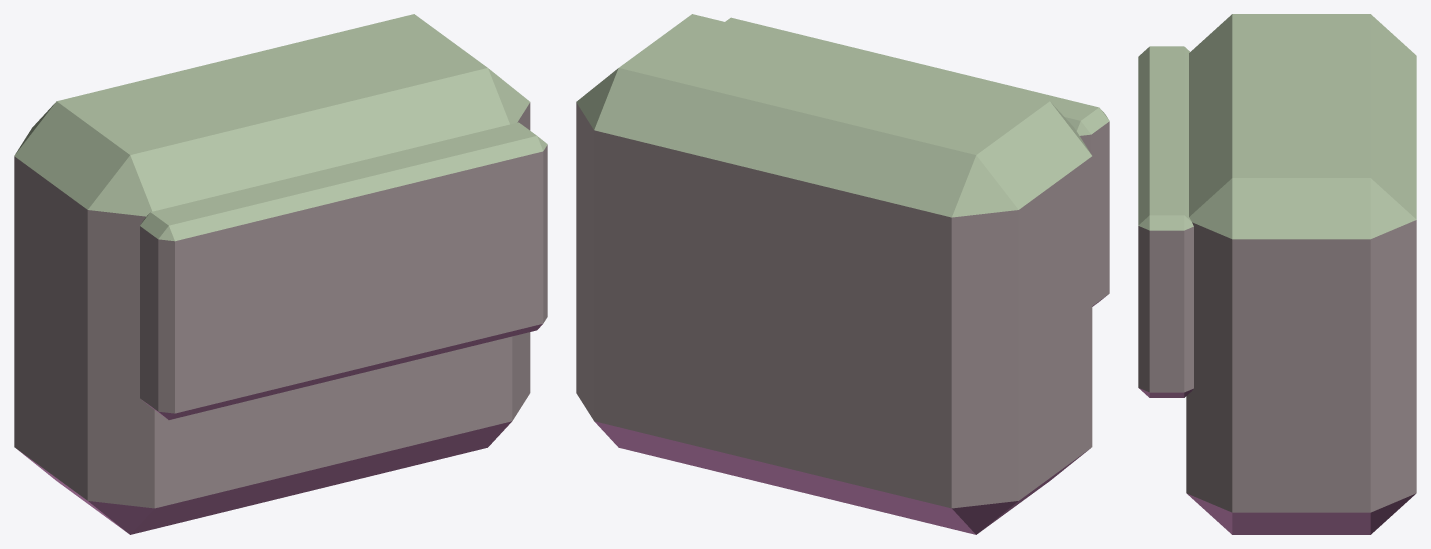
Rendered from npc_module_satchel_v01.glb.
3 renders of one model, left to right at view 1: azimuth 30°, elevation 25°; view 2: azimuth 150°, elevation 25°; view 3: azimuth 270°, elevation 25°, orthographic. The views are drawn at different scales.
Visible parts, largest first — view 1: GEO_npc_module_satchel_v01; view 2: GEO_npc_module_satchel_v01; view 3: GEO_npc_module_satchel_v01.
Part boxes in pixels (x1,y1,x2,y2): GEO_npc_module_satchel_v01: (14,14,547,534); GEO_npc_module_satchel_v01: (576,14,1109,534); GEO_npc_module_satchel_v01: (1138,14,1416,534).
Size of the model in its own units: 1 by 0.82 by 0.58.
